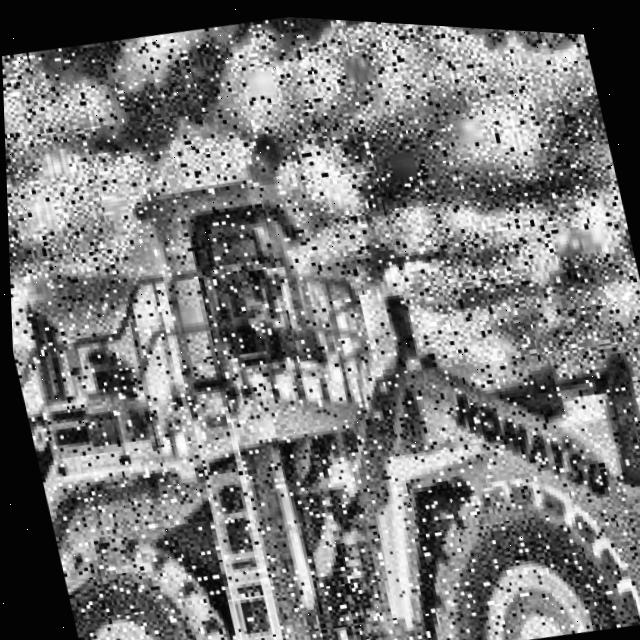buldozerpayloadergrader: (3, 102, 640, 640)
